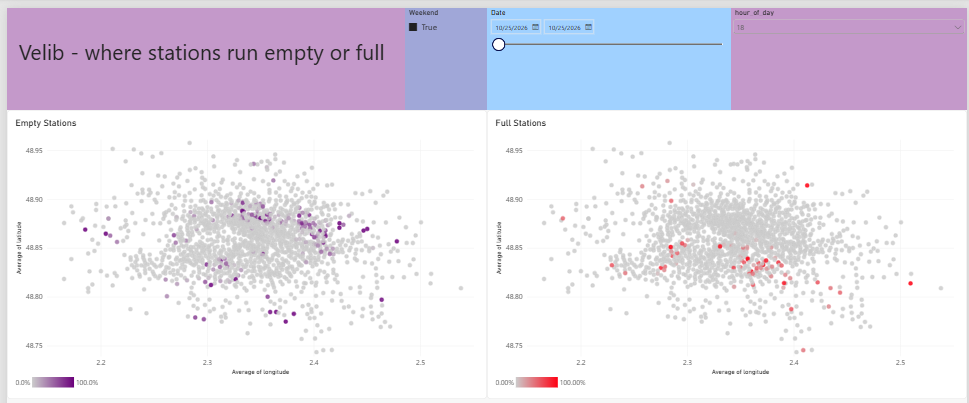

What the dashboard file says about the page in this screenshot:
{"tool":"powerbi","page":{"name":"Map","canvas":[1920,1080],"ordinal":1},"visuals":[{"type":"scatterChart","title":"Empty Stations","fields":{"Category":["dim_stations.station_name"],"X":["Avg(dim_stations.longitude)"],"Y":["Avg(dim_stations.latitude)"]},"box":[0,204,960,578],"z":0},{"type":"slicer","fields":{"Values":["fct_station_hourly.hour_of_day"]},"box":[1448,0,472,204],"z":1000},{"type":"textbox","box":[0,0,796,204],"z":2000},{"type":"scatterChart","title":"Full Stations","fields":{"Category":["dim_stations.station_name"],"X":["Avg(dim_stations.longitude)"],"Y":["Avg(dim_stations.latitude)"]},"box":[960,204,960,578],"z":3000},{"type":"slicer","fields":{"Values":["fct_station_hourly.date_paris"]},"box":[960,0,488,204],"z":4000},{"type":"slicer","fields":{"Values":["fct_station_hourly.is_weekend"]},"box":[796,0,164,204],"z":5000}]}

Visuals, with their boxes on the page's 1920x1080 design canvas (x1, y1, x2, y2). These are canvas units, not pixel positions in the 969x403 screenshot, which may show the page scaled, cropped or inside an application window:
"Empty Stations" scatterChart: [left=0, top=204, right=960, bottom=782]
slicer - fct_station_hourly.hour_of_day: [left=1448, top=0, right=1920, bottom=204]
textbox: [left=0, top=0, right=796, bottom=204]
"Full Stations" scatterChart: [left=960, top=204, right=1920, bottom=782]
slicer - fct_station_hourly.date_paris: [left=960, top=0, right=1448, bottom=204]
slicer - fct_station_hourly.is_weekend: [left=796, top=0, right=960, bottom=204]
